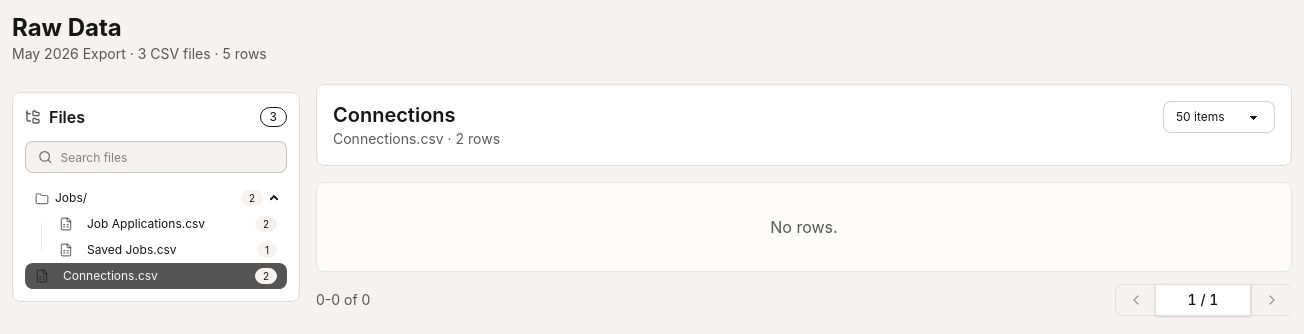
Test: RawBrowserPage › filters the sidebar files with the search box
The image size is (1304, 334).
Type "saved" into the search field named "Search raw files". click: (167, 157)
box: [60,142,274,172]
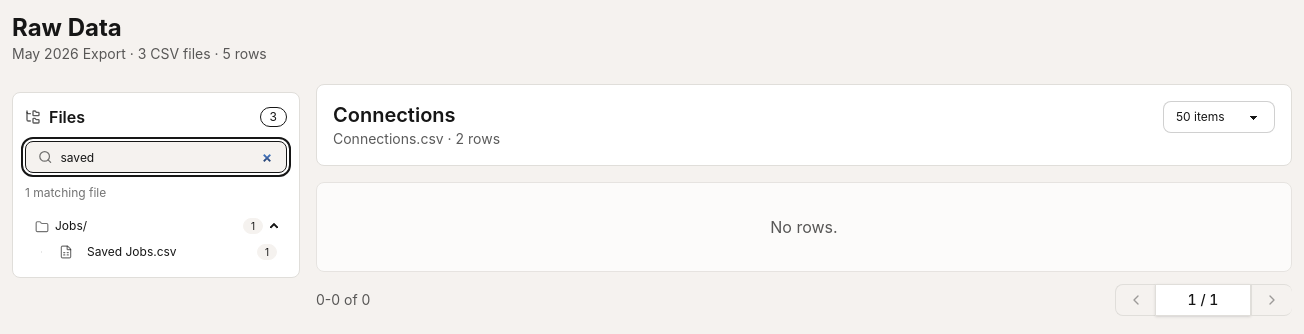
Check: the button "Saved Jobs.csv 1" is shown, box [49,239,287,265]
Check: the text "1 matching file" is shown, box [25,185,106,200]
